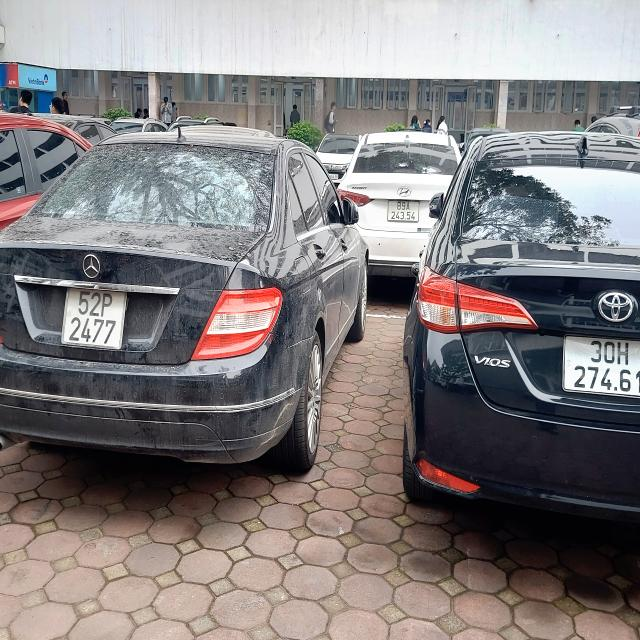license_plate: (62, 285, 127, 352), (389, 201, 420, 223)
